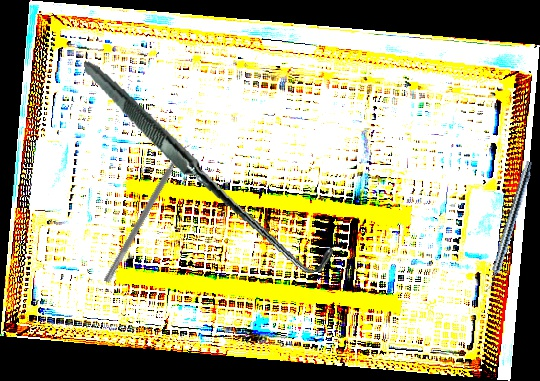Handpiece: (482, 159, 535, 295)
Hook Surgical: (83, 34, 336, 298)
Spatula Surgical: (103, 139, 194, 287)
